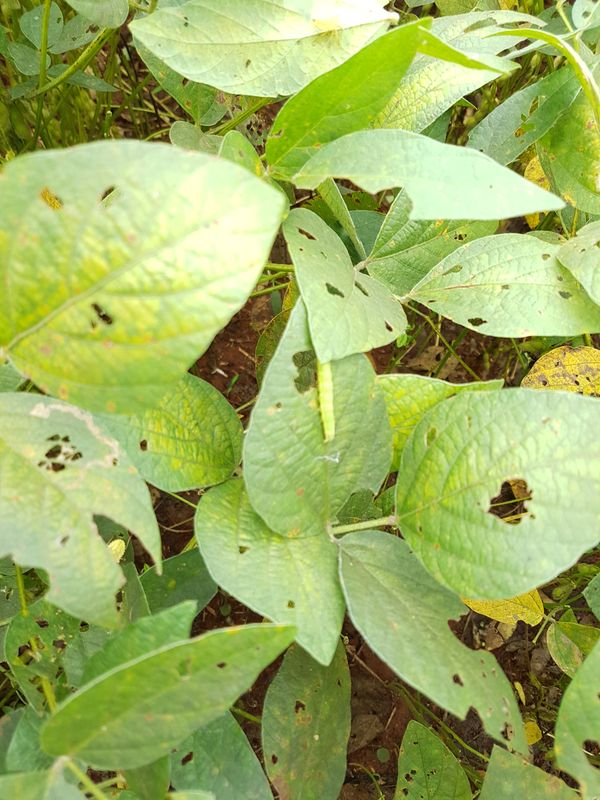Anticarsia_gemmatalis: (278, 336, 375, 453)
